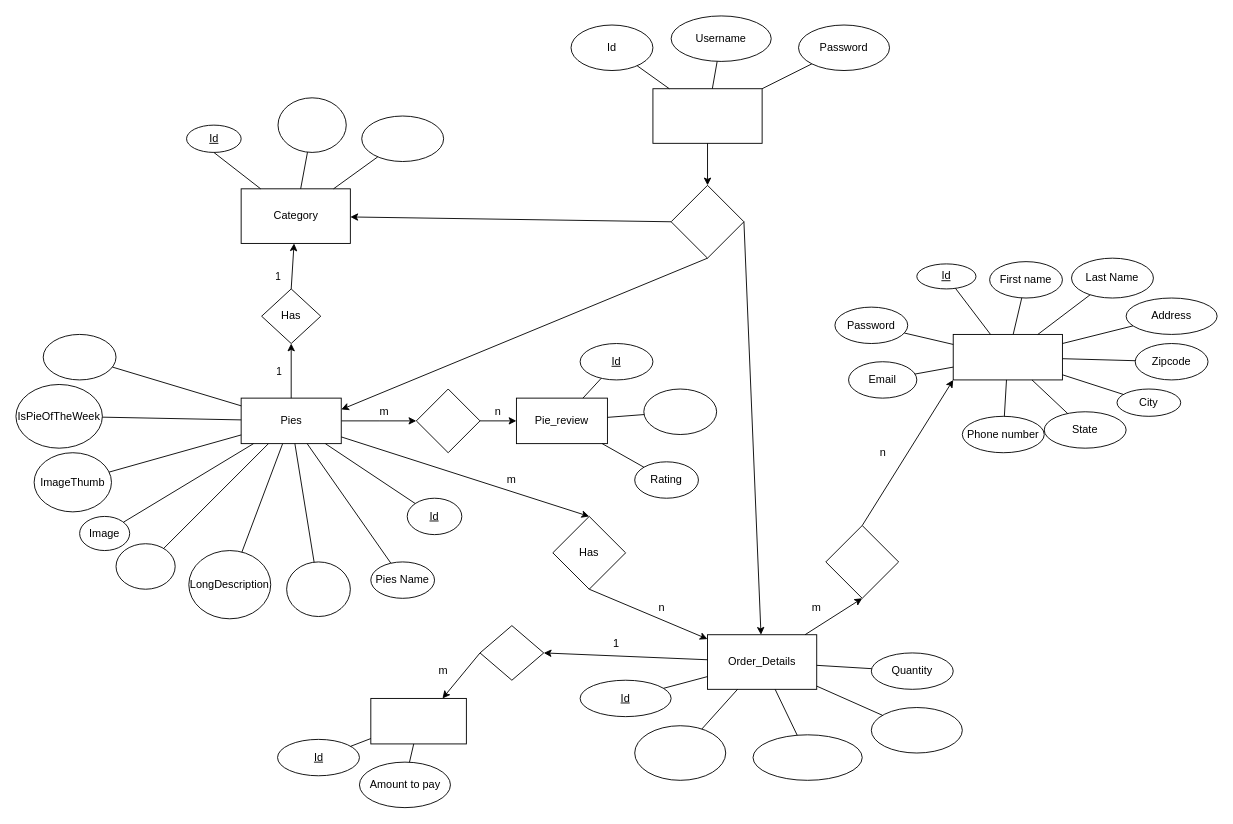
Image size: 1233x824. Some labels were removed from this diagram. Here are the shapes that lost their labels. From the top down, the box of each, then its label:
(277, 97, 346, 152): Category Name
(652, 88, 762, 143): Admin
(361, 115, 444, 162): Description
(670, 184, 744, 258): Edit
(42, 334, 116, 380): In Stock
(952, 334, 1062, 380): Register_User
(415, 388, 480, 453): Includes
(643, 388, 717, 435): Review
(115, 543, 175, 589): Price
(825, 525, 899, 598): Order By
(286, 561, 350, 617): Short Description
(479, 625, 544, 680): Include
(370, 698, 466, 744): Shopping_Cart
(870, 707, 962, 753): Amount
(634, 725, 726, 780): Payment Method
(752, 734, 862, 780): Order Confirm
